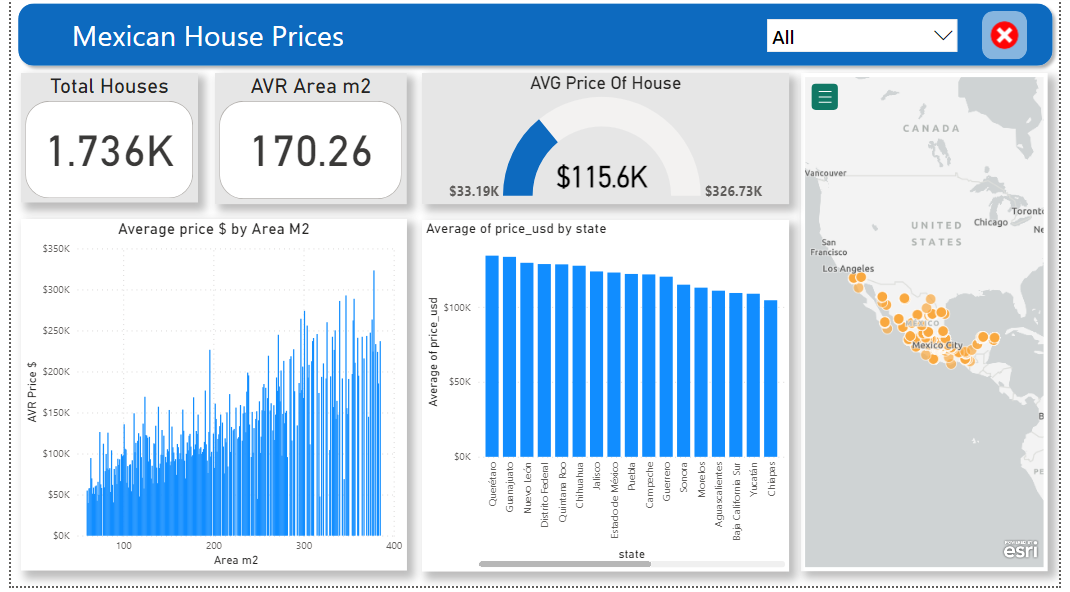

What the dashboard file says about the page in this screenshot:
{"tool":"powerbi","page":{"name":"Page 1","canvas":[1280,720],"ordinal":0},"visuals":[{"type":"shape","box":[0,0,1280,93.8],"z":0},{"type":"cardVisual","title":"Total Houses","fields":{"Data":["CountNonNull(mexico-real-estate-clean.state)"]},"box":[12.6,93.8,215.7,158.2],"z":1000},{"type":"cardVisual","title":"AVR Area m2 ","fields":{"Data":["Avg(mexico-real-estate-clean.area_m2)"]},"box":[249.3,93.8,233.9,159.6],"z":2000},{"type":"slicer","fields":{"Values":["mexico-real-estate-clean.state"]},"box":[912.5,17.9,251.9,59.2],"z":3000},{"type":"esriVisual","fields":{"Latitude":["mexico-real-estate-clean.lat"],"Longitude":["mexico-real-estate-clean.lon"],"Location":["mexico-real-estate-clean.state"]},"box":[963.5,93.8,301.1,607.8],"z":4000},{"type":"gauge","title":"AVG Price Of House","fields":{"Y":["Avg(mexico-real-estate-clean.price_usd)"],"MinValue":["Min(mexico-real-estate-clean.price_usd)"],"MaxValue":["Max(mexico-real-estate-clean.price_usd)"]},"box":[501.4,93.8,448.1,159.6],"z":5000},{"type":"clusteredColumnChart","title":"Average  price $   by Area  M2","fields":{"Y":["Avg(mexico-real-estate-clean.price_usd)"],"Category":["mexico-real-estate-clean.area_m2"]},"box":[12.4,272.5,470.7,429.4],"z":6000},{"type":"clusteredColumnChart","fields":{"Category":["mexico-real-estate-clean.state"],"Y":["Avg(mexico-real-estate-clean.price_usd)"]},"box":[501,273,448,429],"z":7000},{"type":"actionButton","box":[1185,17.9,55.1,59.2],"z":8000}]}

Visuals, with their boxes in screenshot pixels (x1, y1, x2, y2), scaled from the page's 1280x720 canvas onto the 1070x592 screenshot:
shape: 0/0/1069/77
"Total Houses" cardVisual: 11/77/191/207
"AVR Area m2 " cardVisual: 208/77/404/208
slicer - mexico-real-estate-clean.state: 763/15/973/63
esriVisual - mexico-real-estate-clean.lat x mexico-real-estate-clean.lon: 805/77/1057/577
"AVG Price Of House" gauge: 419/77/794/208
"Average  price $   by Area  M2" clusteredColumnChart: 10/224/404/577
clusteredColumnChart - mexico-real-estate-clean.state x Avg(mexico-real-estate-clean.price_usd): 419/224/793/577
actionButton: 991/15/1037/63
